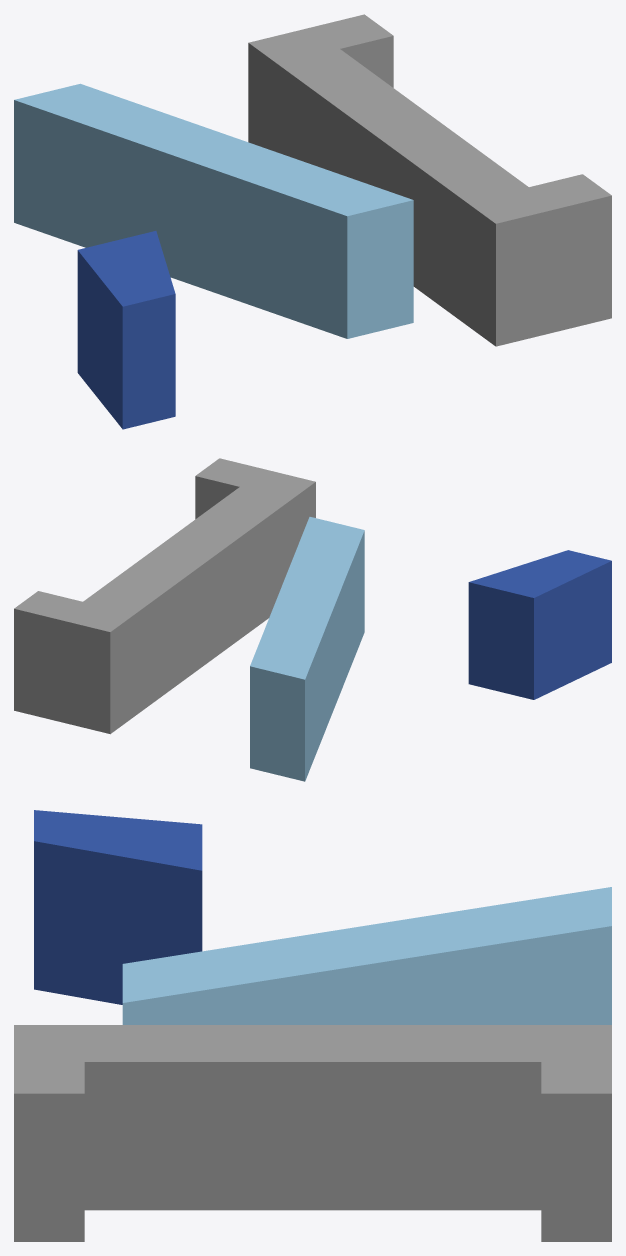
File: PartStudio1.dae
3 views of the same model, one above another, from view 1: azimuth 30°, elevation 25°; view 2: azimuth 150°, elevation 25°; view 3: azimuth 270°, elevation 25° (orthographic). The views are drawn at different scales.
Visible parts, largest first — view 1: 65edd0f8c069f357a90f84f1 (×3); view 2: 65edd0f8c069f357a90f84f1 (×3); view 3: 65edd0f8c069f357a90f84f1 (×3).
Boxes of the visible parts, x1,y1,x2,y2 form: 65edd0f8c069f357a90f84f1 (×3): (14,14,611,429); 65edd0f8c069f357a90f84f1 (×3): (14,458,611,781); 65edd0f8c069f357a90f84f1 (×3): (14,810,611,1241).
Bounding box in the file's own units: 0.0819 × 0.073 × 0.02.
